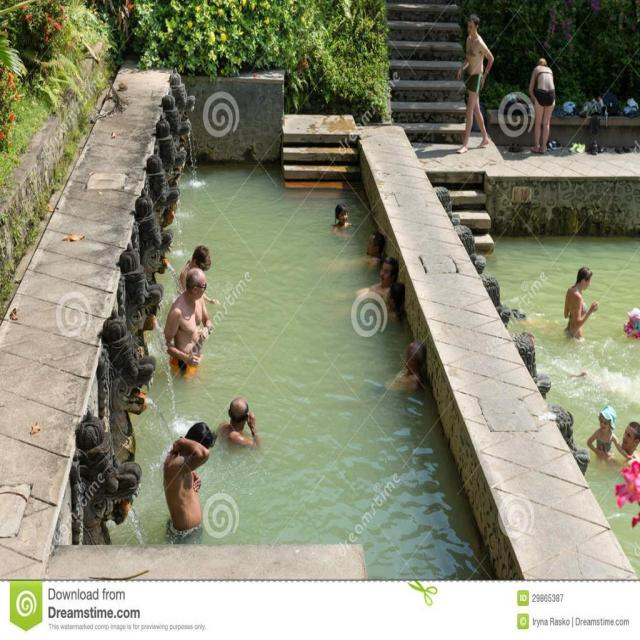nomask: (621, 426, 634, 448), (380, 263, 390, 285), (599, 412, 609, 432), (196, 281, 206, 300), (405, 349, 415, 367), (387, 289, 394, 307), (338, 208, 346, 223), (367, 237, 375, 252), (467, 18, 474, 34), (582, 275, 590, 289)
